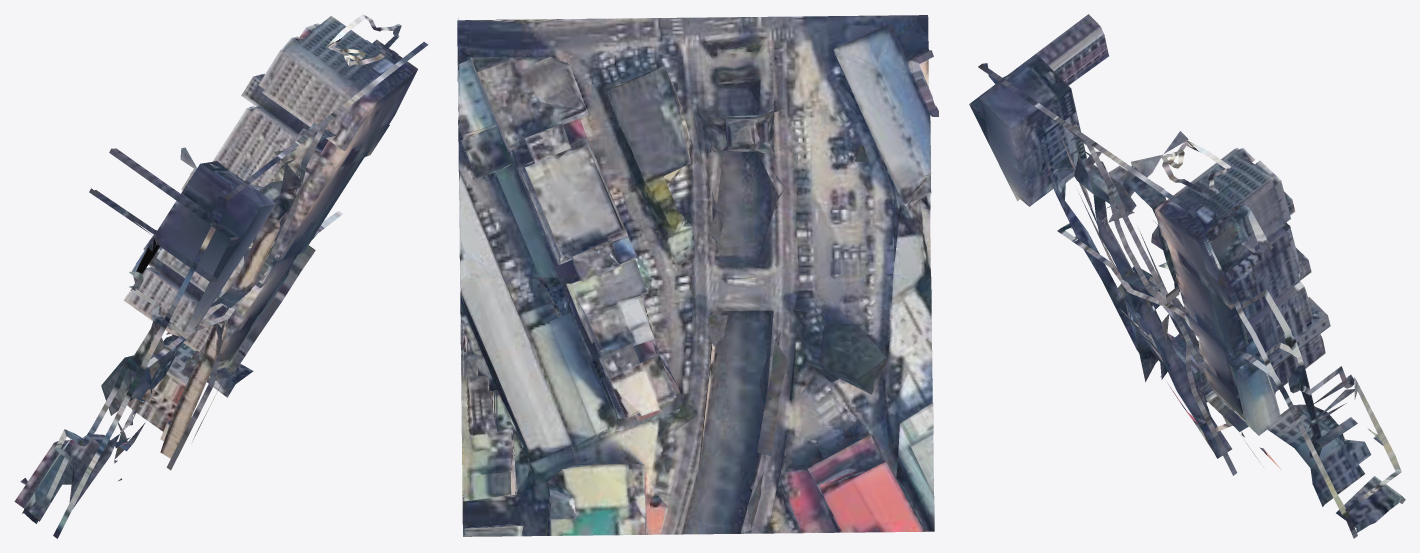
The picture shows the model from 3 angles, left to right: view 1: azimuth 30°, elevation 25°; view 2: azimuth 150°, elevation 25°; view 3: azimuth 270°, elevation 25°; orthographic projection. The views are drawn at different scales.
Size of the model in its own units: 159 by 150 by 148.
2 materials, 2 textured.
